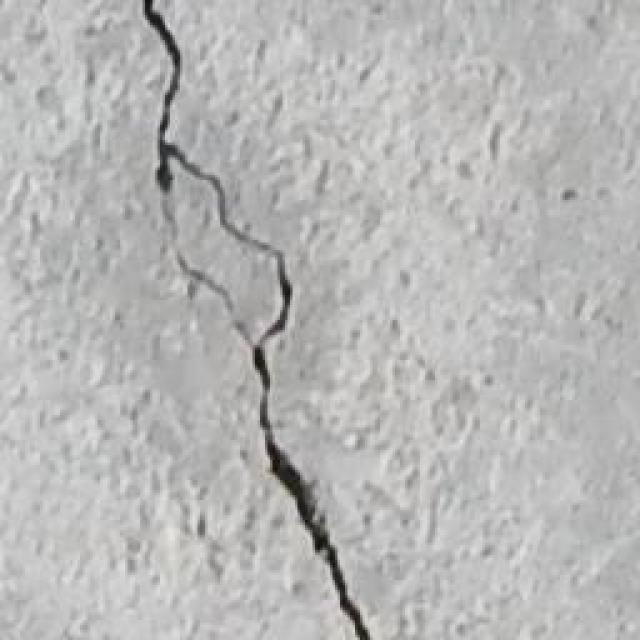concrete-crack: (137, 0, 377, 640), (161, 198, 256, 344)
